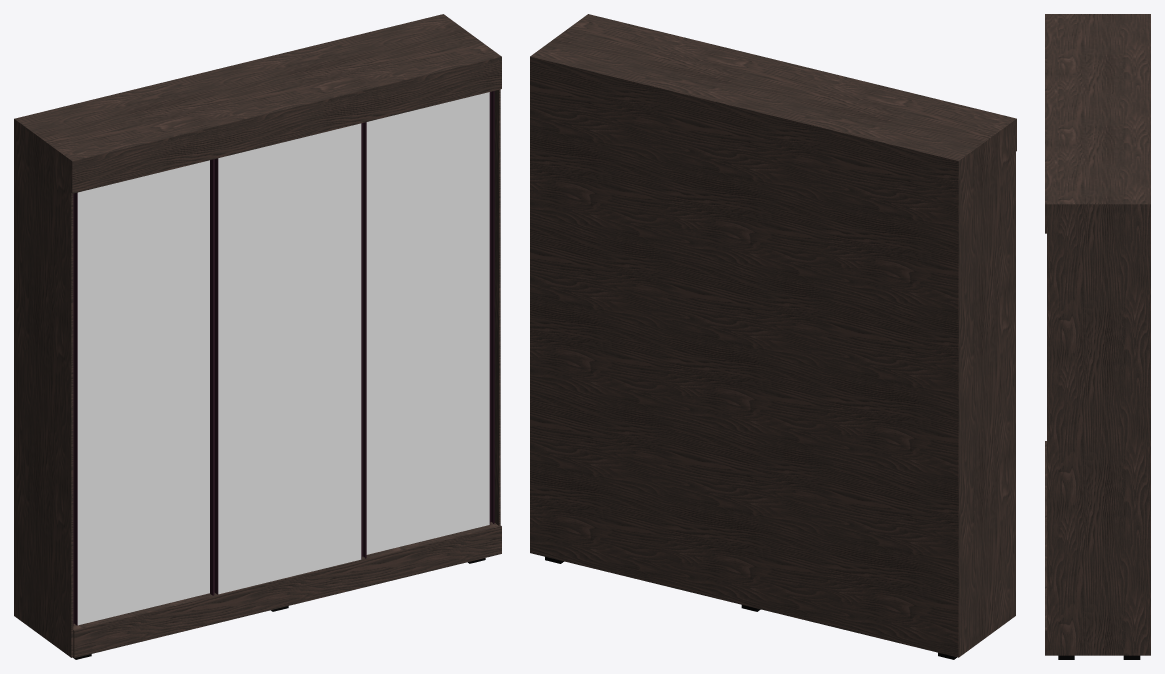
File: guardaroupas002.glb
3 views of the same model, side by side, from view 1: azimuth 30°, elevation 25°; view 2: azimuth 150°, elevation 25°; view 3: azimuth 270°, elevation 25° (orthographic). The views are drawn at different scales.
Parts seen in each view (by area): view 1: Componente2\Sólido (3), Componente2\Sólido, Componente1\Sólido, Componente2\Sólido (2), Componente2\Sólido (5), Componente2\Sólido (4), Componente3\Sólido (3), Componente3\Sólido (4), Componente3\Sólido (2), Componente3\Sólido; view 2: Componente1\Sólido, Componente2\Sólido (5); view 3: Componente1\Sólido, Componente2\Sólido (5), Componente2\Sólido (4).
Part boxes in pixels (x1,y1,x2,y2): Componente2\Sólido (3): (218, 123, 361, 594); Componente2\Sólido: (77, 160, 209, 625); Componente1\Sólido: (14, 14, 500, 657); Componente2\Sólido (2): (366, 92, 489, 554); Componente2\Sólido (5): (67, 51, 501, 193); Componente2\Sólido (4): (73, 525, 501, 658); Componente3\Sólido (3): (210, 158, 218, 595); Componente3\Sólido (4): (361, 122, 366, 559); Componente3\Sólido (2): (489, 91, 494, 524); Componente3\Sólido: (73, 192, 77, 625); Componente1\Sólido: (530, 14, 1015, 657); Componente2\Sólido (5): (583, 14, 1016, 151); Componente1\Sólido: (1047, 14, 1150, 655); Componente2\Sólido (5): (1045, 14, 1058, 233); Componente2\Sólido (4): (1045, 441, 1046, 655).
Bounding box in the file's own units: 2.44 × 2.75 × 0.5734.
4 materials, 1 textured.
